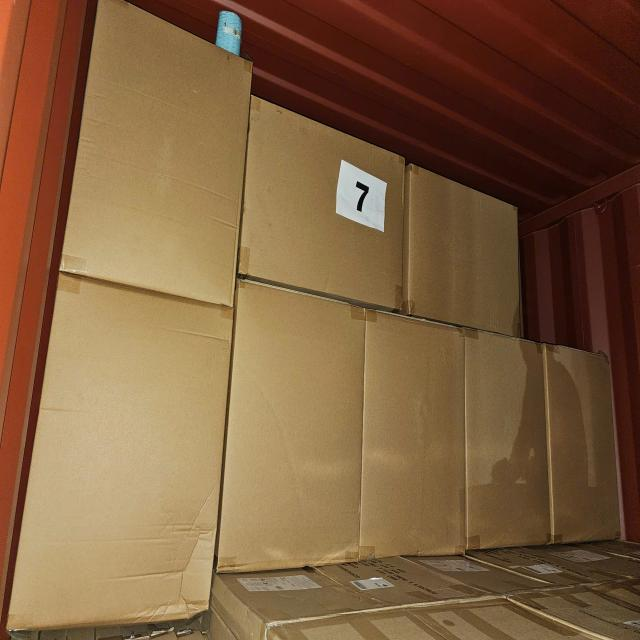Carton: (6, 273, 235, 636), (59, 0, 254, 302), (232, 288, 364, 574), (243, 93, 412, 302), (364, 309, 468, 561), (403, 163, 520, 331), (468, 330, 554, 550), (546, 340, 624, 542)
